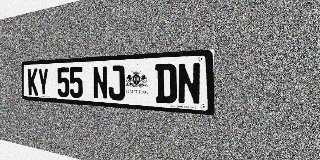5: (69, 67, 83, 98), (57, 67, 70, 97)
D: (155, 63, 177, 104)
J: (108, 65, 125, 101)
K: (28, 68, 38, 96)
N: (177, 62, 201, 105), (93, 66, 108, 100)
Y: (38, 68, 49, 96)
